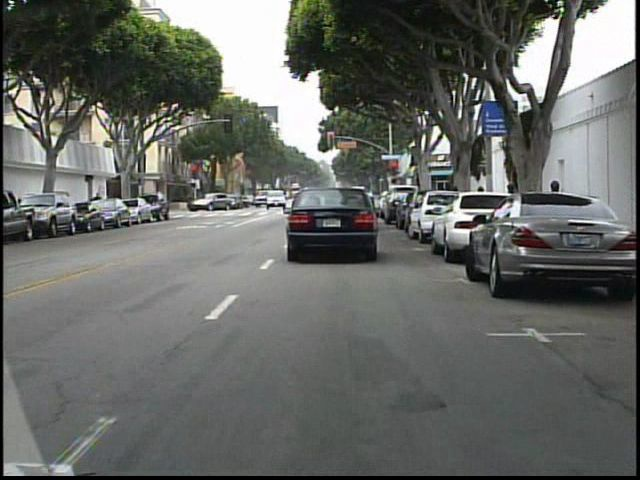person: (90, 188, 107, 224), (186, 190, 200, 215)
